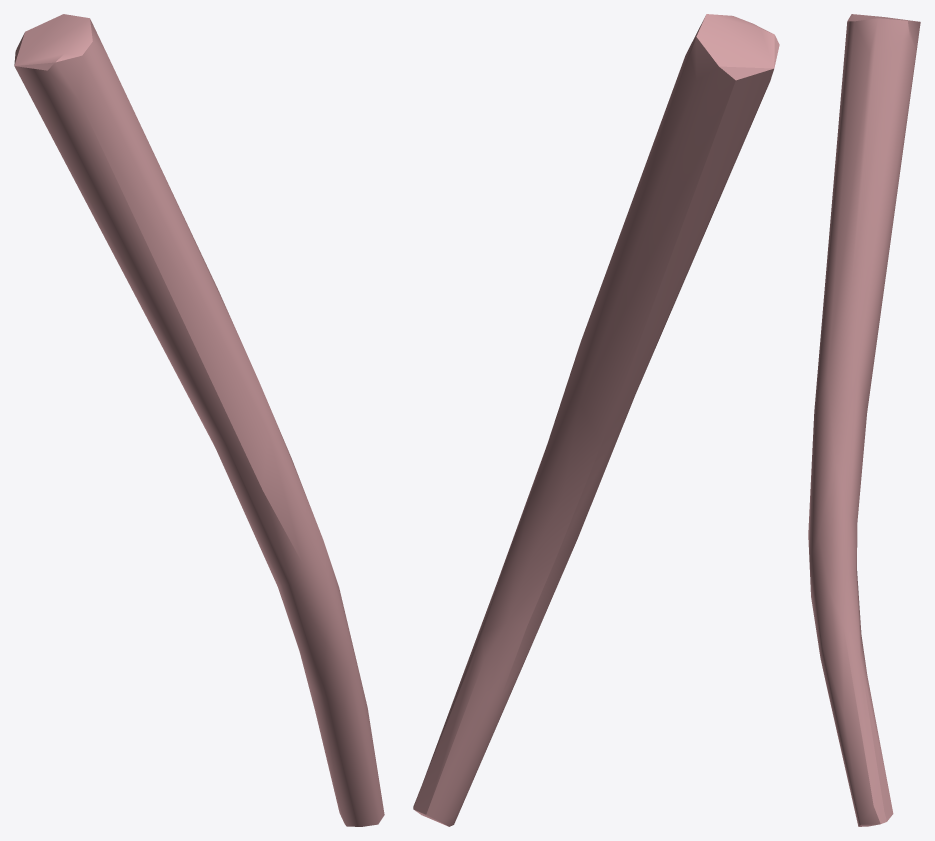
The model's file is fma68231_fj6494.glb.
The picture shows the model from 3 angles, left to right: view 1: azimuth 30°, elevation 25°; view 2: azimuth 150°, elevation 25°; view 3: azimuth 270°, elevation 25°; orthographic projection. The views are drawn at different scales.
Parts seen in each view (by area): view 1: FMA68231_FJ6494; view 2: FMA68231_FJ6494; view 3: FMA68231_FJ6494.
Boxes of the visible parts, x1,y1,x2,y2 form: FMA68231_FJ6494: (14, 14, 384, 826); FMA68231_FJ6494: (413, 14, 779, 826); FMA68231_FJ6494: (808, 14, 920, 826).
Bounding box in the file's own units: 0.0179 × 0.0412 × 0.00597.
